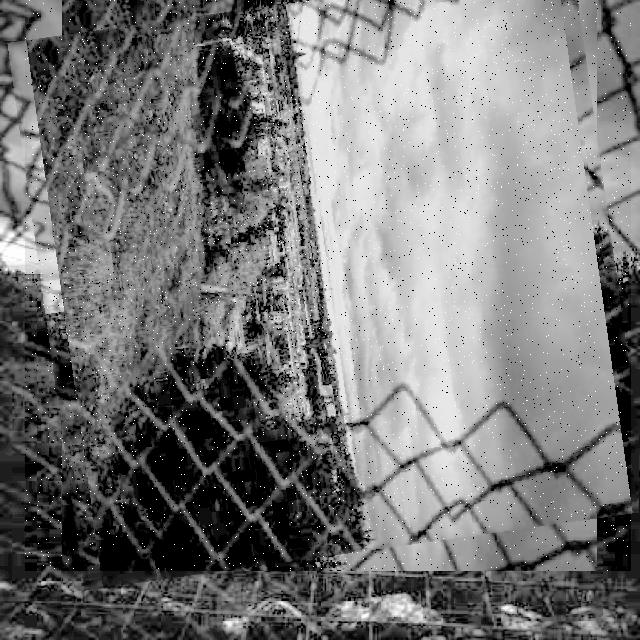anomaly-fence: (25, 0, 631, 571)
